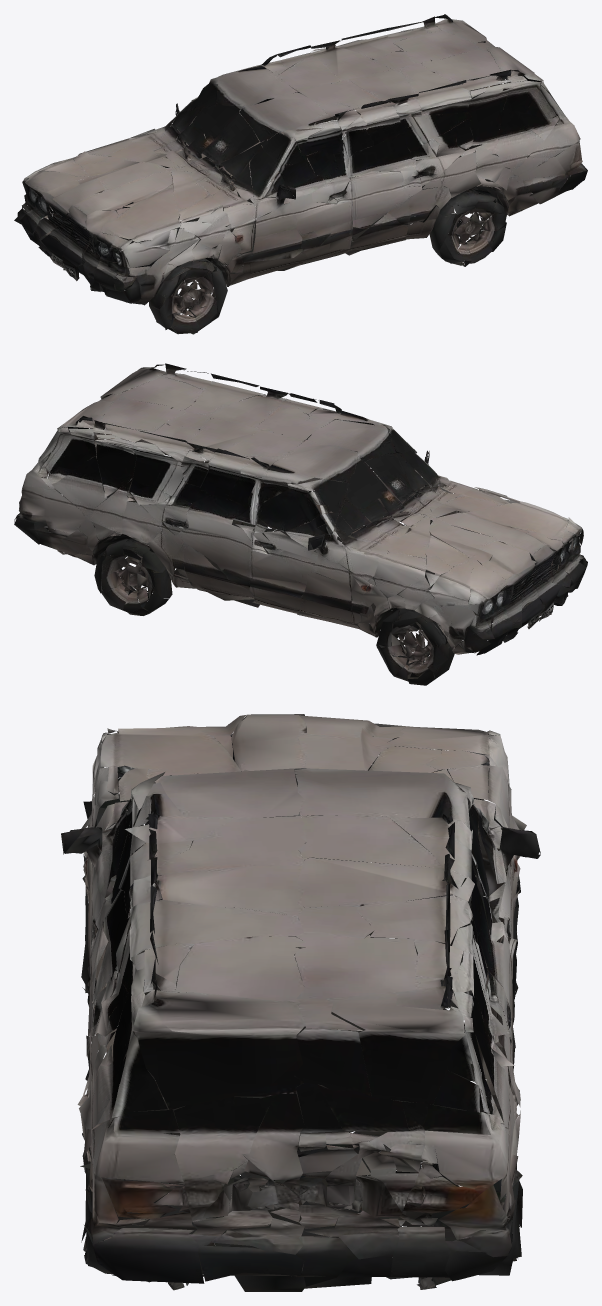
Rendered from getkong-mcar3-lo.glb.
The picture shows the model from 3 angles, top to bottom: view 1: azimuth 30°, elevation 25°; view 2: azimuth 150°, elevation 25°; view 3: azimuth 270°, elevation 25°; orthographic projection. The views are drawn at different scales.
Visible parts, largest first — view 1: Mesh_0; view 2: Mesh_0; view 3: Mesh_0.
Part boxes in pixels (box(x1,y1,x2,y2)): Mesh_0: box(14, 14, 587, 334); Mesh_0: box(14, 363, 587, 685); Mesh_0: box(61, 714, 540, 1291).
Size of the model in its own units: 1.92 by 0.6604 by 0.8252.
Materials: 1 (1 with a texture image).
